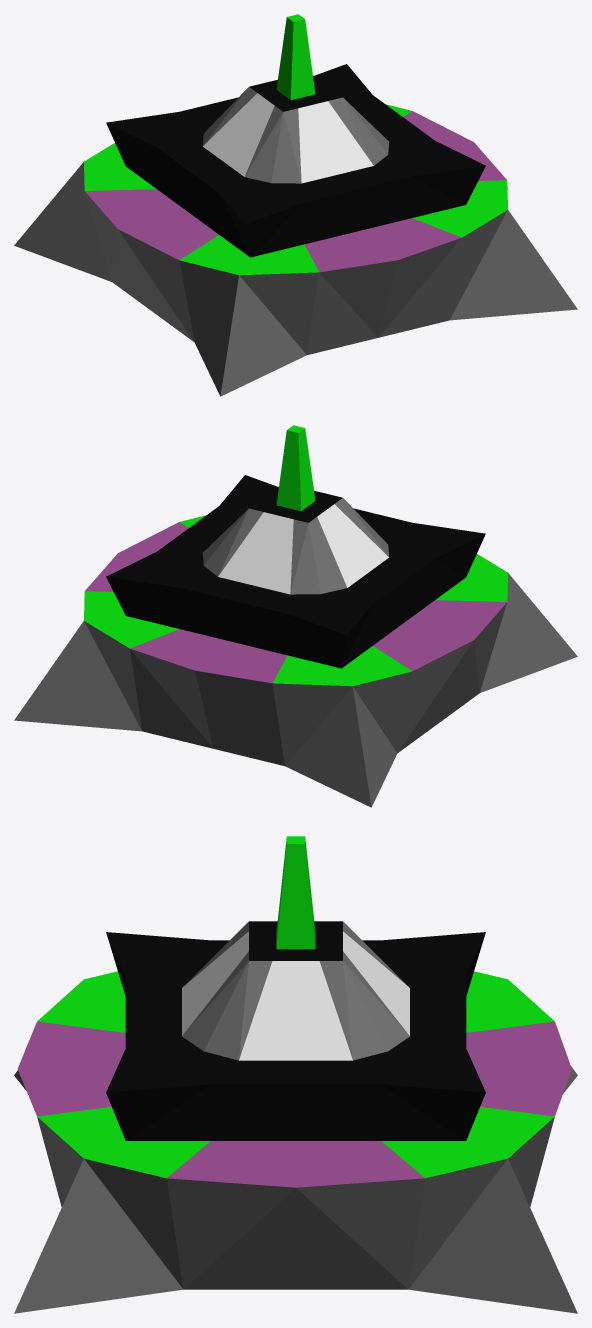
The model's file is Mine.dae.
The picture shows the model from 3 angles, top to bottom: view 1: azimuth 30°, elevation 25°; view 2: azimuth 150°, elevation 25°; view 3: azimuth 270°, elevation 25°; orthographic projection. The views are drawn at different scales.
Visible parts, largest first — view 1: Plane; view 2: Plane; view 3: Plane.
Part boxes in pixels (bbox=[...]): Plane: bbox=[14, 14, 577, 396]; Plane: bbox=[14, 425, 577, 807]; Plane: bbox=[14, 836, 577, 1313].
Bounding box in the file's own units: 0.7923 × 0.7923 × 0.5495.
Materials: 7 (1 with a texture image).
